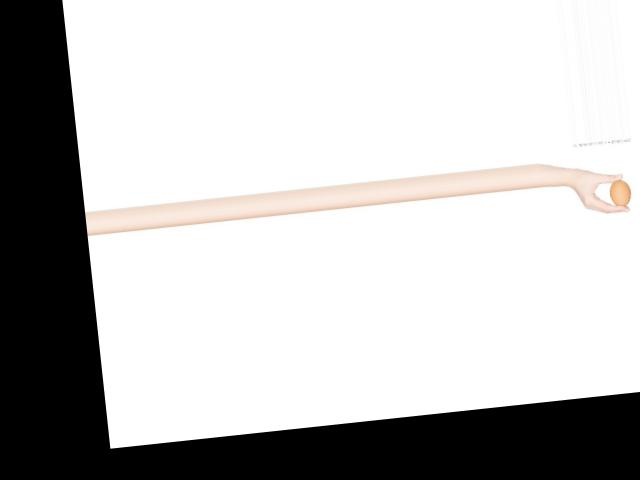egg: (609, 178, 632, 208)
